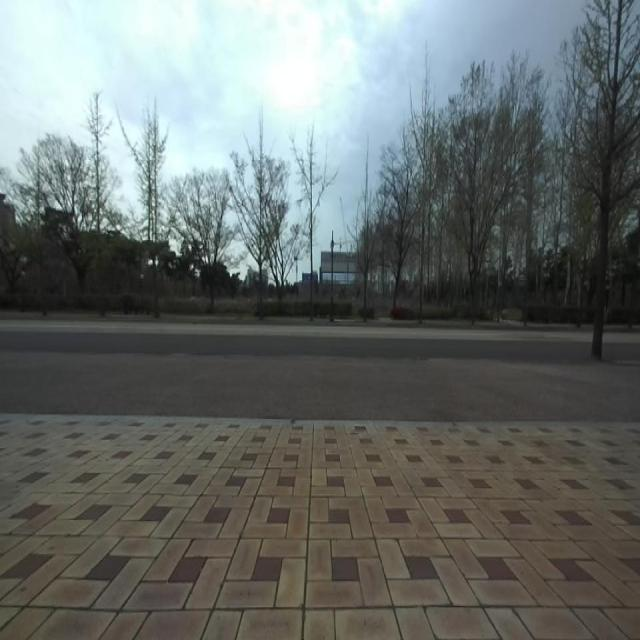sidewalk: (0, 351, 640, 421)
